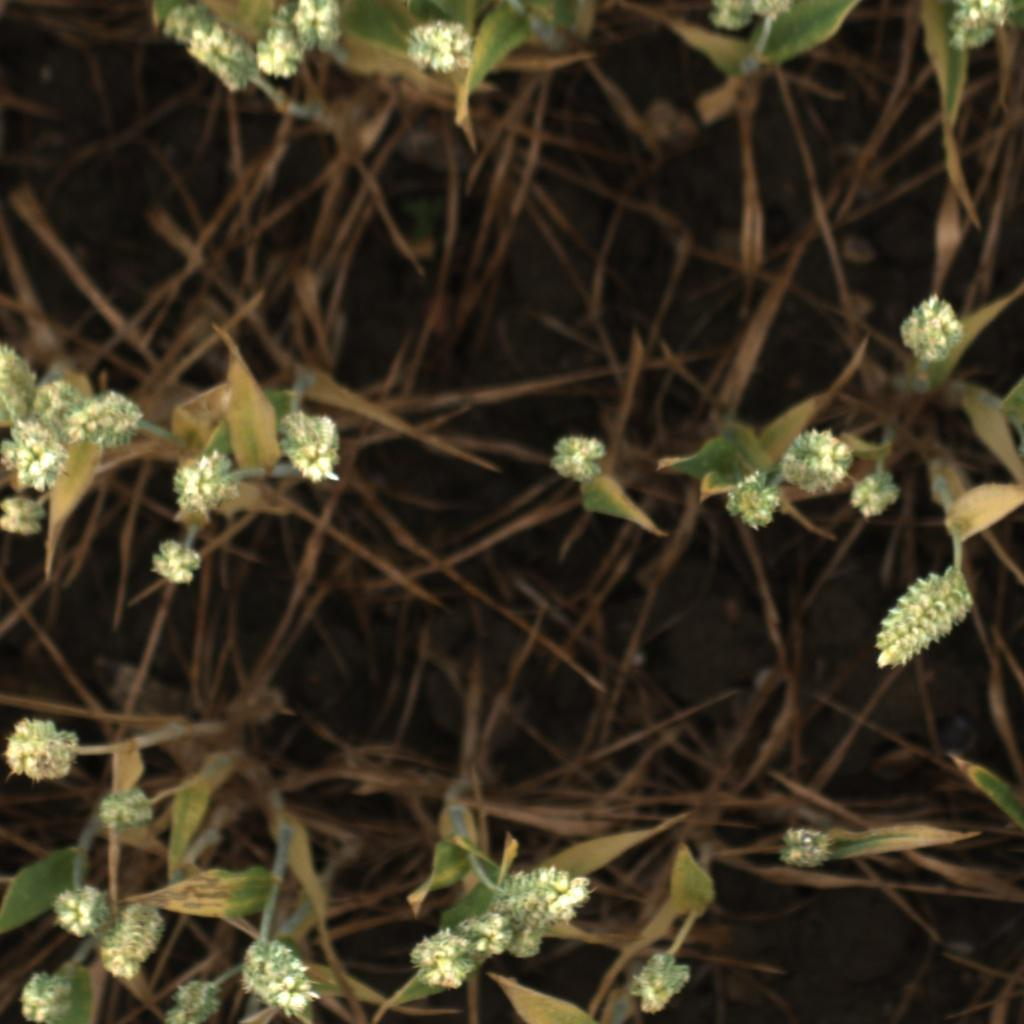0-0: (868, 557, 985, 678), (155, 0, 258, 92), (239, 934, 323, 1019), (272, 405, 352, 490), (456, 904, 562, 968), (0, 706, 84, 785), (498, 864, 599, 927), (88, 904, 168, 983), (159, 445, 242, 518), (889, 291, 967, 367), (775, 423, 856, 496), (396, 11, 478, 82), (254, 2, 317, 89), (0, 419, 72, 490), (718, 464, 788, 537), (22, 375, 93, 442), (623, 952, 695, 1017), (408, 926, 475, 995), (541, 428, 614, 488), (46, 882, 116, 940), (0, 335, 46, 421), (12, 967, 80, 1024), (150, 974, 227, 1024), (68, 395, 143, 446), (699, 0, 807, 35), (141, 532, 205, 589), (290, 0, 351, 58), (943, 0, 1016, 48), (775, 818, 836, 873), (94, 783, 155, 837), (850, 467, 906, 524), (0, 486, 55, 543)
